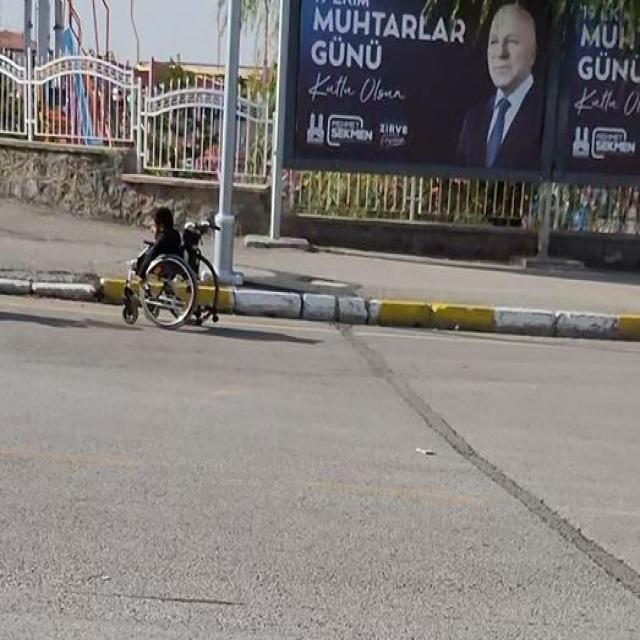wheelchairs: (133, 231, 219, 333)
